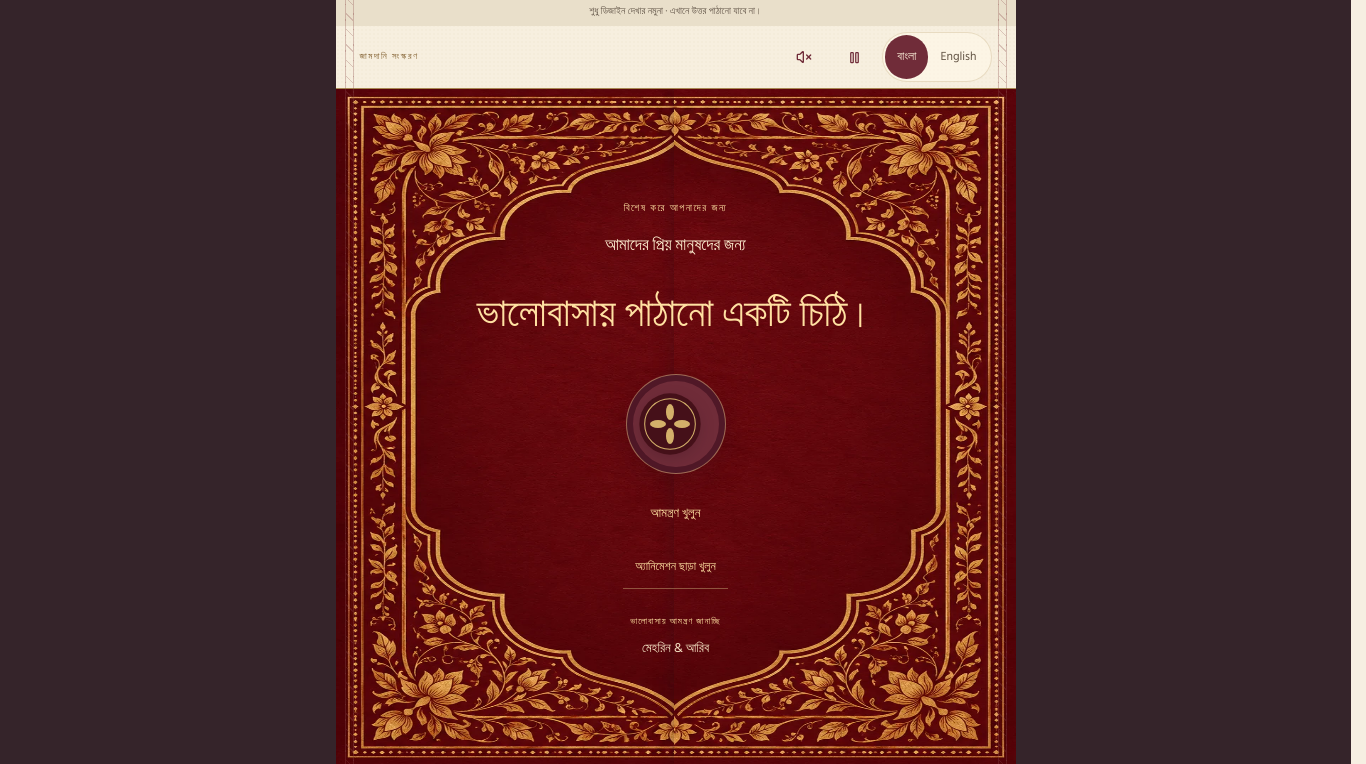
Test: personal invitation and explicit opening contract › keeps an authorized draftPreview focused on editing and sharing rather than a new order
Click the button "অ্যানিমেশন ছাড়া খুলুন": (676, 567) x1=623 y1=545 x2=728 y2=589
(page scrolled)
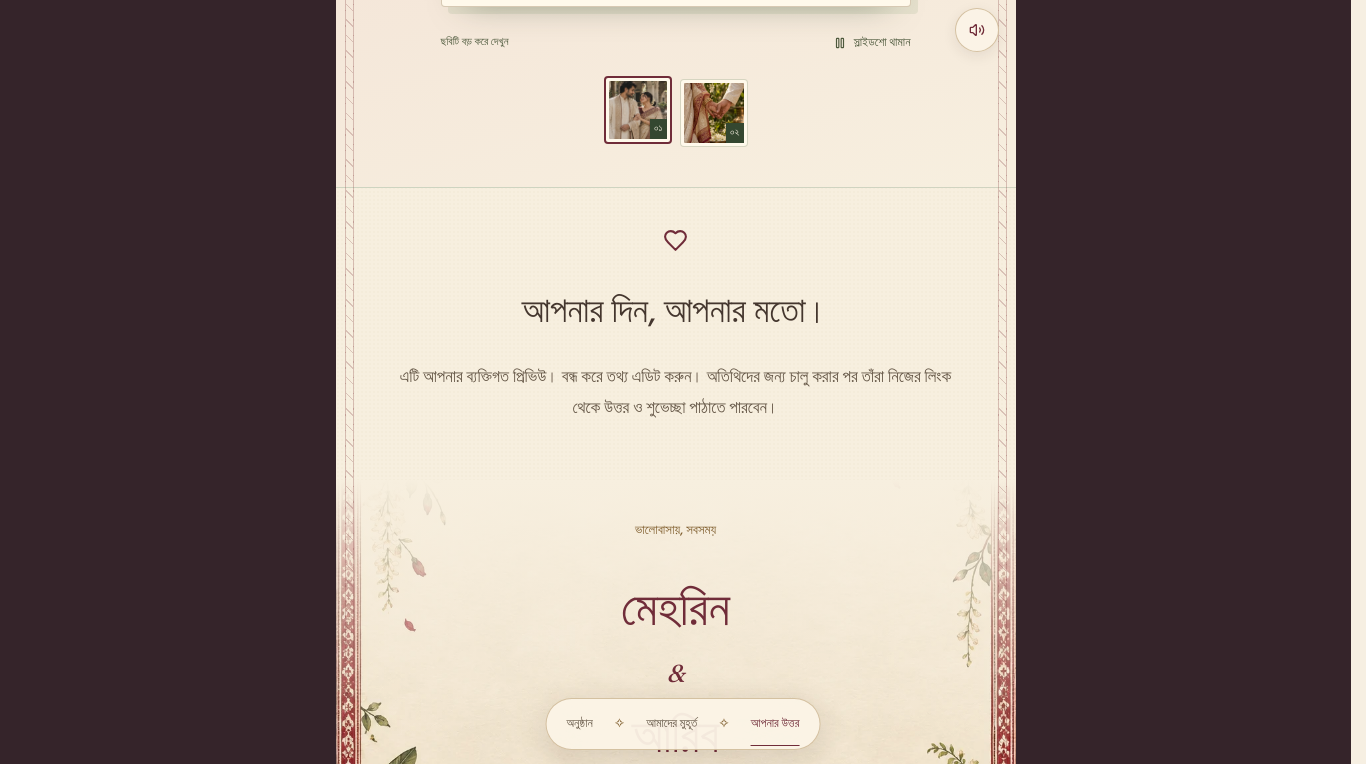
Result: the text "এটি আপনার ব্যক্তিগত প্রিভিউ" is shown at x1=400 y1=363 x2=951 y2=422
